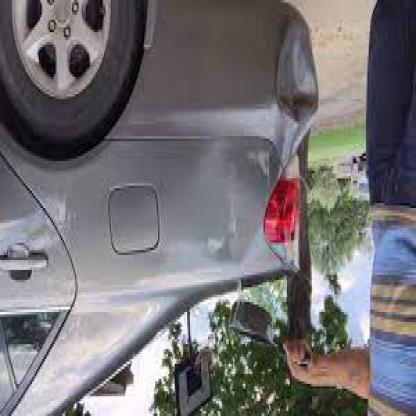dent: (272, 15, 315, 139)
